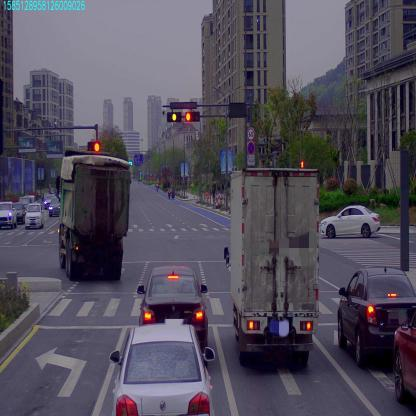traffic-light: (184, 109, 200, 124), (166, 113, 182, 124)
